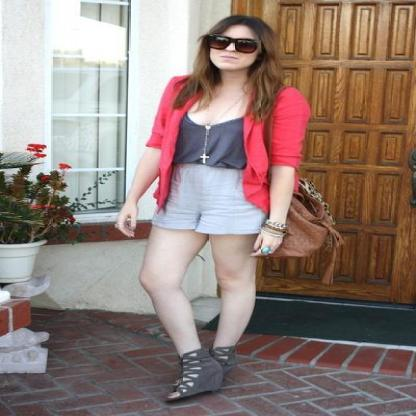bag: (270, 180, 342, 260)
jacket: (146, 87, 310, 213)
shirt: (168, 114, 246, 174)
shoe: (172, 342, 248, 387)
shorts: (143, 164, 263, 234)
sunglass: (221, 36, 256, 52)
